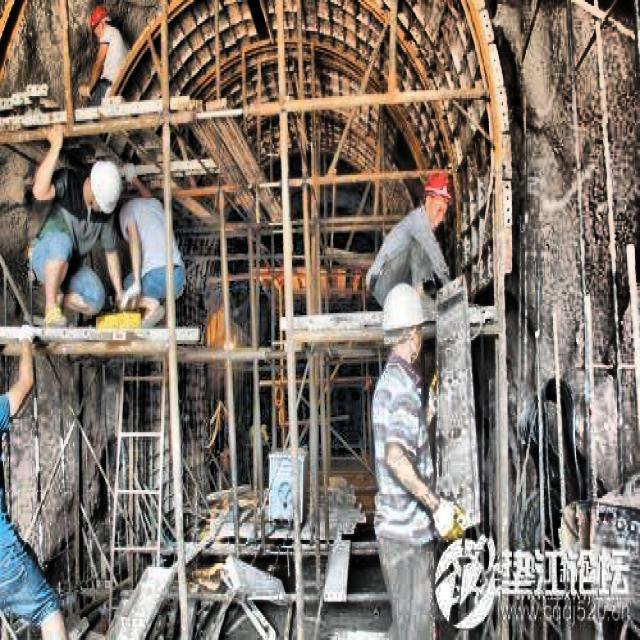helmet: (382, 283, 430, 367), (82, 160, 125, 221), (419, 163, 453, 229), (85, 4, 110, 40)
